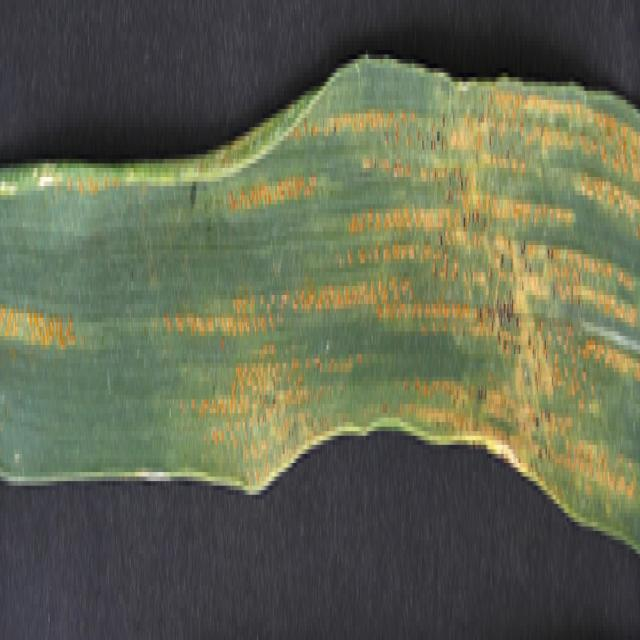leaf rust: (159, 109, 638, 531), (0, 190, 84, 400)
